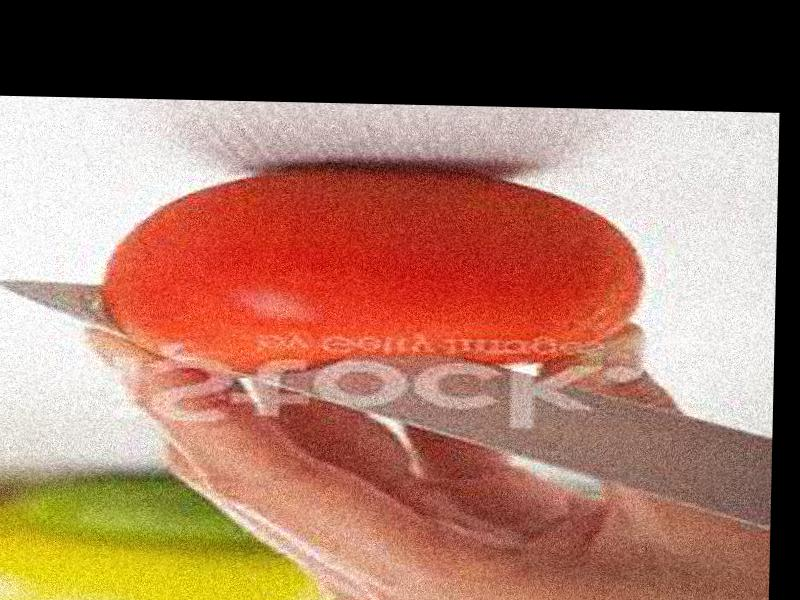Tomato: (101, 158, 651, 380)
